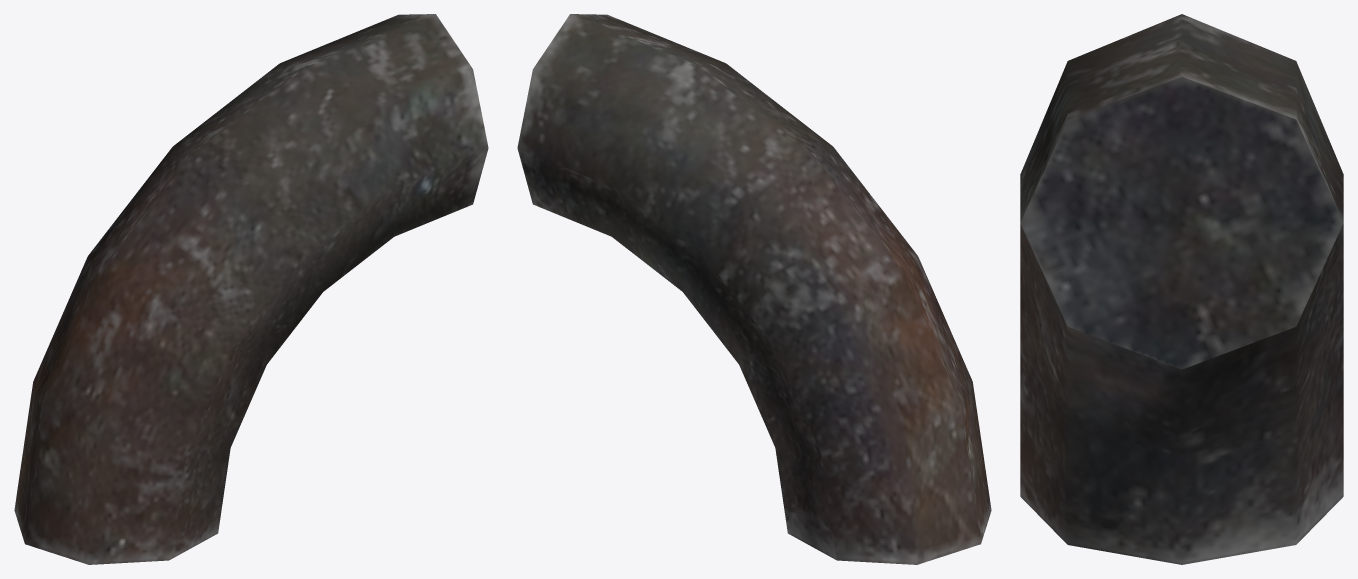
The model's file is NM_ThinTube_03.fbx.
3 views of the same model, side by side, from view 1: azimuth 30°, elevation 25°; view 2: azimuth 150°, elevation 25°; view 3: azimuth 270°, elevation 25° (orthographic). The views are drawn at different scales.
Parts seen in each view (by area): view 1: Tube_Corner01_low; view 2: Tube_Corner01_low; view 3: Tube_Corner01_low.
Boxes of the visible parts, left/top/right/bottom form: Tube_Corner01_low: left=14, top=14, right=488, bottom=564; Tube_Corner01_low: left=517, top=14, right=991, bottom=564; Tube_Corner01_low: left=1020, top=14, right=1343, bottom=564.
Size of the model in its own units: 23.7 by 23.7 by 10.54.
